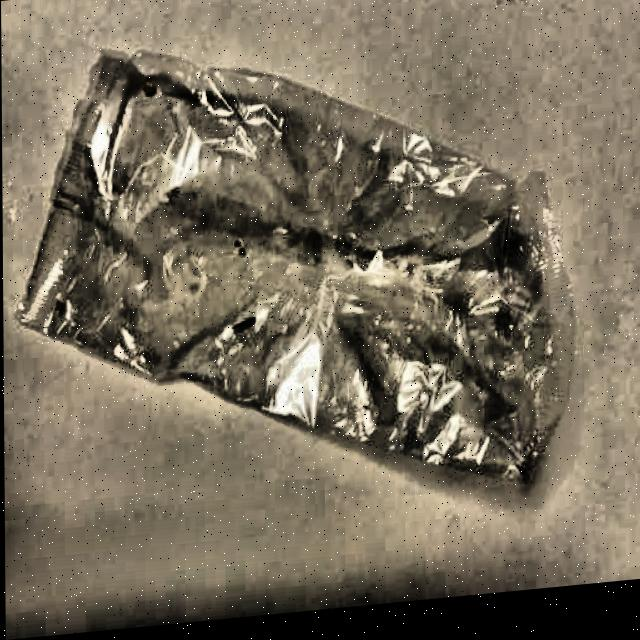plastic: (15, 0, 581, 540)
